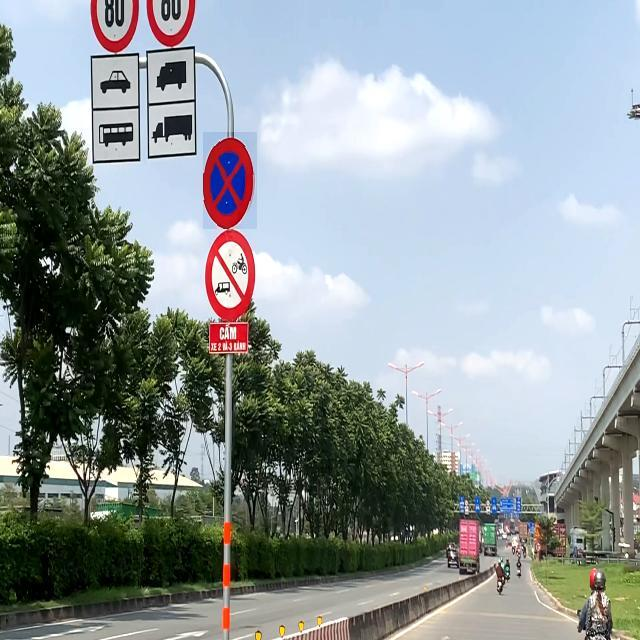P-130: (203, 132, 257, 229)
